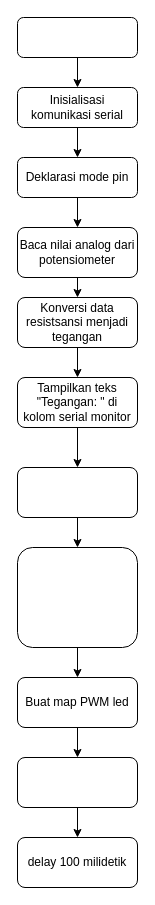
Image size: 155x905. Some labels were removed from this diagram. Here are the shapes that lost their labels. From the top down, the centre of each, then its label:
pixel 77 37: Deklarasi variabel
pixel 77 492: Tampilkan data yang telah dikonversi menjadi tegangan
pixel 77 597: Tampilkan teks " V" dengan menambahkan line baru disetelahnya
pixel 77 782: Hidupkan LED sesuai map PWM led
